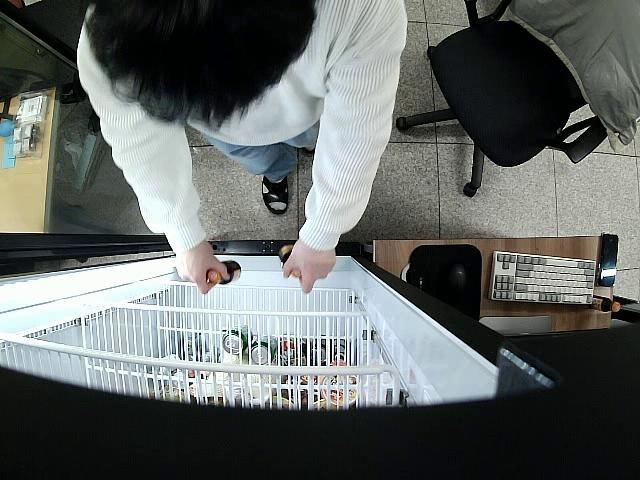17_vita500: (208, 260, 242, 286), (281, 242, 301, 278)
